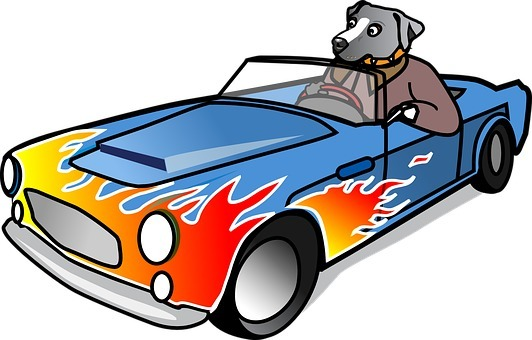cat: (1, 51, 530, 339)
dog: (302, 1, 466, 139)
